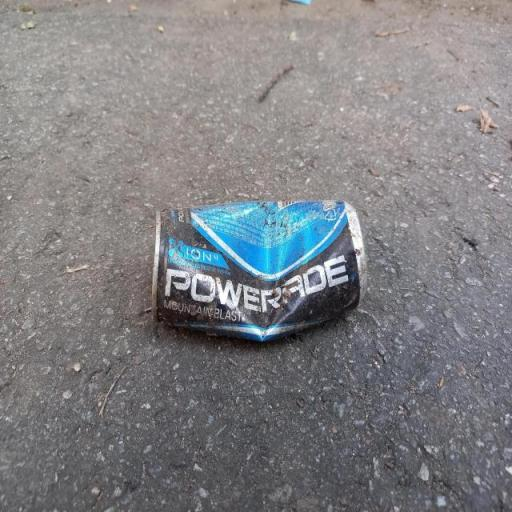metal: (118, 178, 395, 368)
